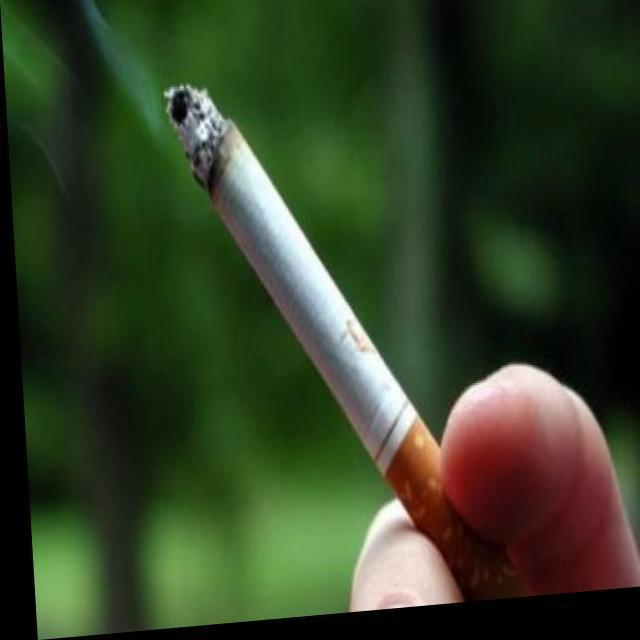Cigarette: (166, 81, 517, 600)
